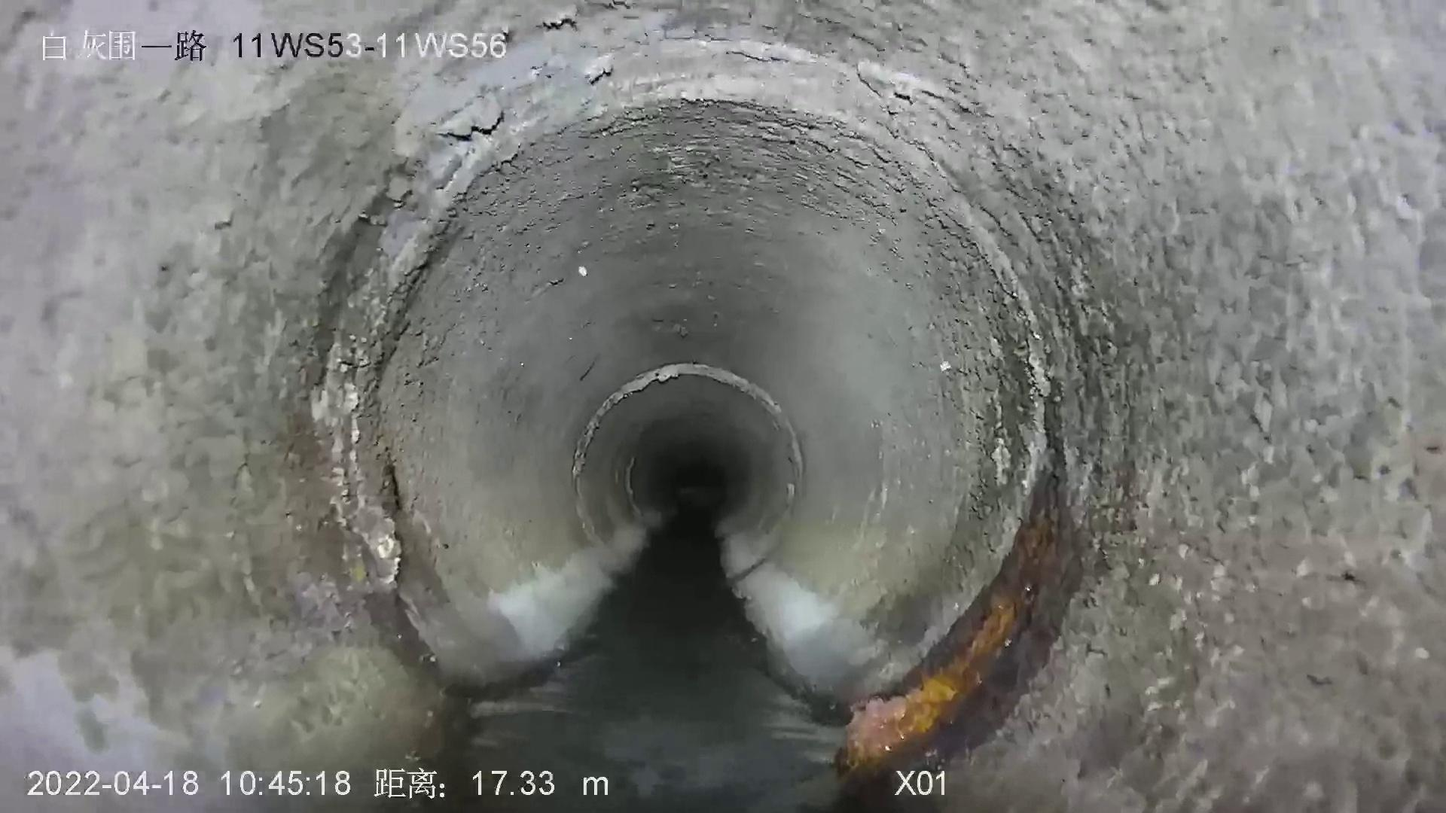CKTJ: (567, 360, 809, 593)
